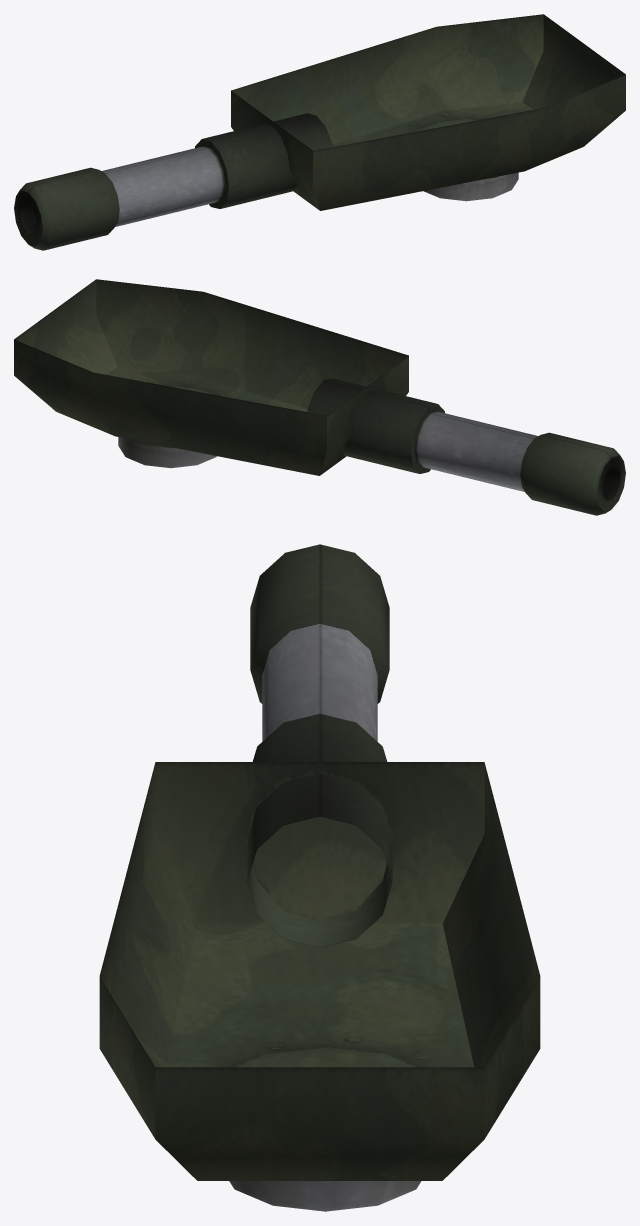
File: lemun_turret.FBX
The picture shows the model from 3 angles, top to bottom: view 1: azimuth 30°, elevation 25°; view 2: azimuth 150°, elevation 25°; view 3: azimuth 270°, elevation 25°; orthographic projection. The views are drawn at different scales.
Visible parts, largest first — view 1: Object001; view 2: Object001; view 3: Object001.
Boxes of the visible parts, bbox=[...] form: Object001: bbox=[14, 14, 625, 250]; Object001: bbox=[14, 279, 625, 515]; Object001: bbox=[99, 544, 540, 1211].
Bounding box in the file's own units: 93.76 × 17.25 × 32.17.
1 material, 1 textured.
